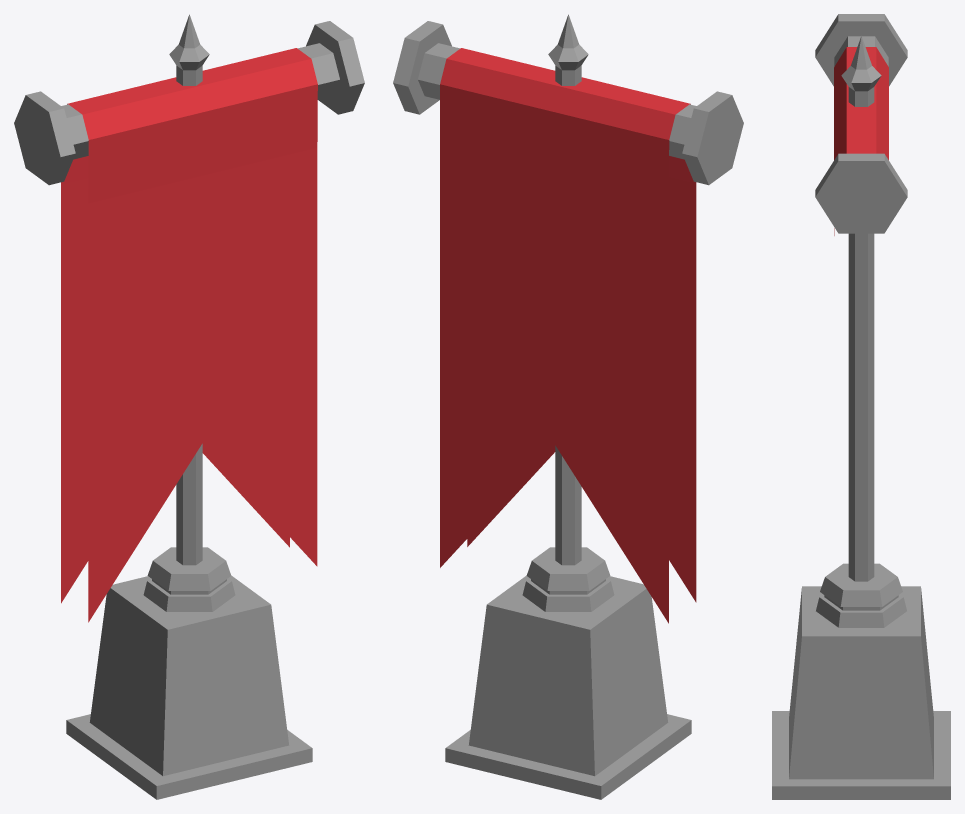
The model's file is 小旗子.fbx.
3 views of the same model, side by side, from view 1: azimuth 30°, elevation 25°; view 2: azimuth 150°, elevation 25°; view 3: azimuth 270°, elevation 25° (orthographic).
Parts seen in each view (by area): view 1: Plane.005, Cube.019, Cylinder.008; view 2: Plane.005, Cube.019, Cylinder.008; view 3: Cube.019, Cylinder.008, Plane.005.
Boxes of the visible parts, box(x1,y1,x2,y2) form: Plane.005: box(61, 48, 317, 622); Cube.019: box(66, 14, 312, 799); Cylinder.008: box(14, 21, 364, 185); Plane.005: box(440, 48, 696, 623); Cube.019: box(445, 14, 691, 799); Cylinder.008: box(393, 21, 743, 185); Cube.019: box(772, 36, 950, 799); Cylinder.008: box(815, 14, 907, 233); Plane.005: box(834, 47, 888, 235).
Bounding box in the file's own units: 85.51 × 197 × 43.96.
